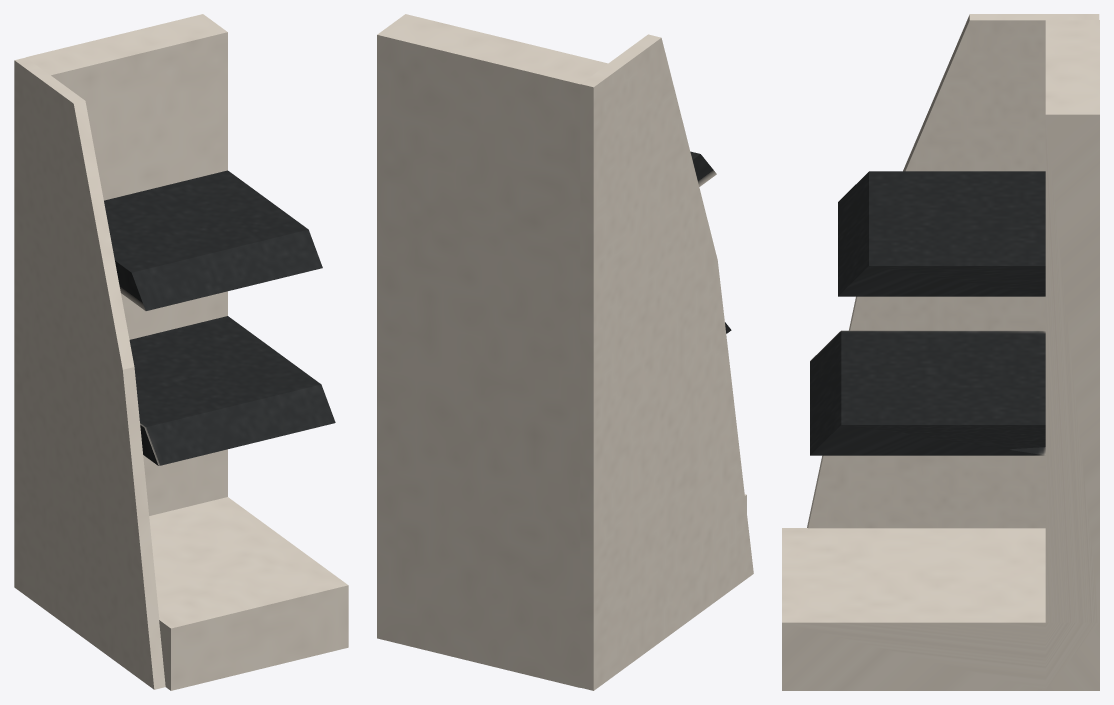
File: shelf_left.fbx
3 views of the same model, side by side, from view 1: azimuth 30°, elevation 25°; view 2: azimuth 150°, elevation 25°; view 3: azimuth 270°, elevation 25° (orthographic). The views are drawn at different scales.
Visible parts, largest first — view 1: shelf_end_right; view 2: shelf_end_right; view 3: shelf_end_right.
Boxes of the visible parts, x1,y1,x2,y2 form: shelf_end_right: (14,14,348,690); shelf_end_right: (377,14,753,690); shelf_end_right: (782,14,1099,690).
Size of the model in its own units: 75 by 200 by 100.
